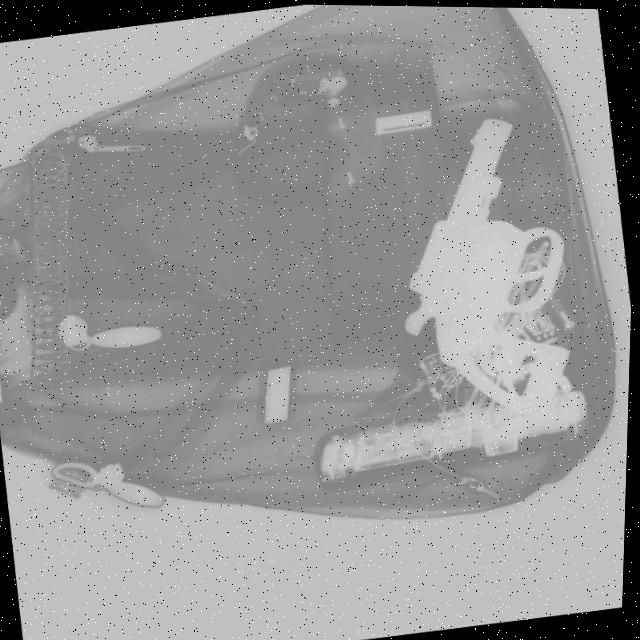pistol: (378, 107, 590, 419)
